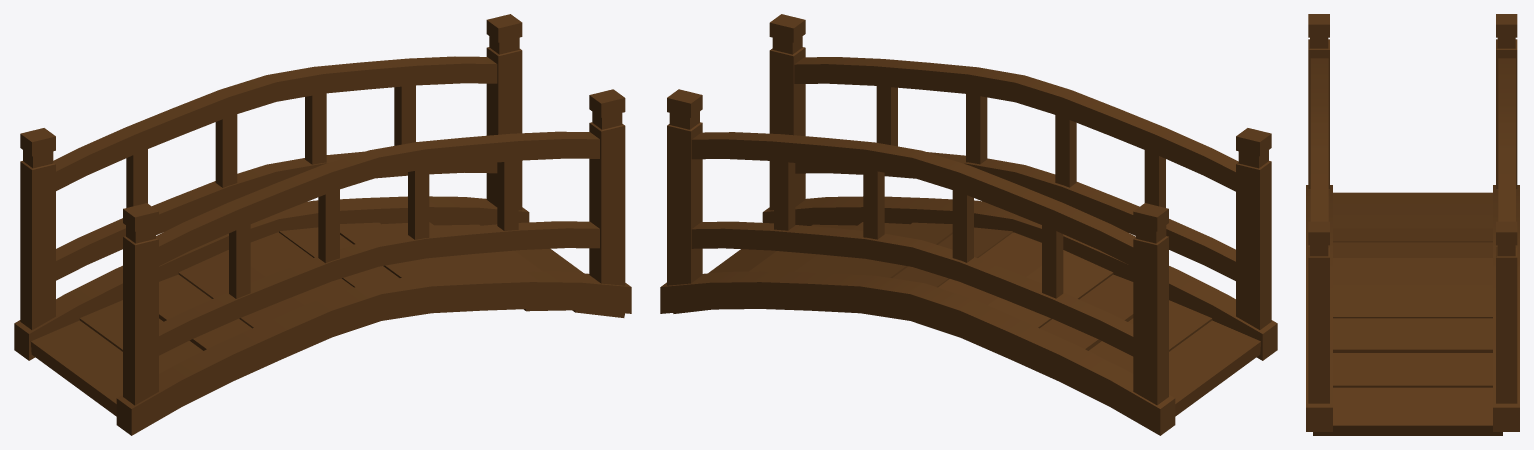
Rendered from Bridge 7.fbx.
3 renders of one model, left to right at view 1: azimuth 30°, elevation 25°; view 2: azimuth 150°, elevation 25°; view 3: azimuth 270°, elevation 25°, orthographic. The views are drawn at different scales.
Visible parts, largest first — view 1: Bridge_7; view 2: Bridge_7; view 3: Bridge_7.
Part boxes in pixels (left/top/right/bottom): Bridge_7: left=14, top=14, right=631, bottom=435; Bridge_7: left=660, top=14, right=1277, bottom=435; Bridge_7: left=1306, top=14, right=1519, bottom=435.
Size of the model in its own units: 992 by 422 by 403.
Materials: 1 (1 with a texture image).
